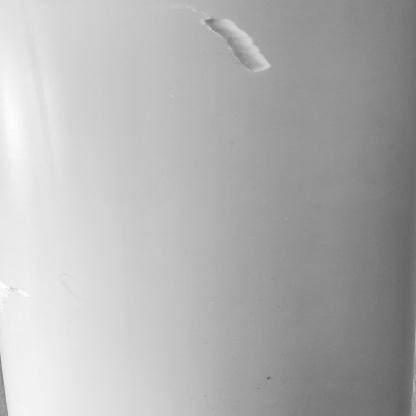sunshang: (190, 8, 296, 84)
